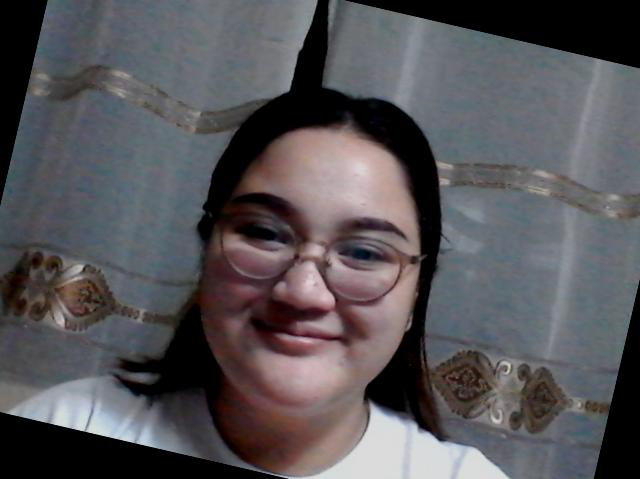senang: (152, 108, 442, 446)
